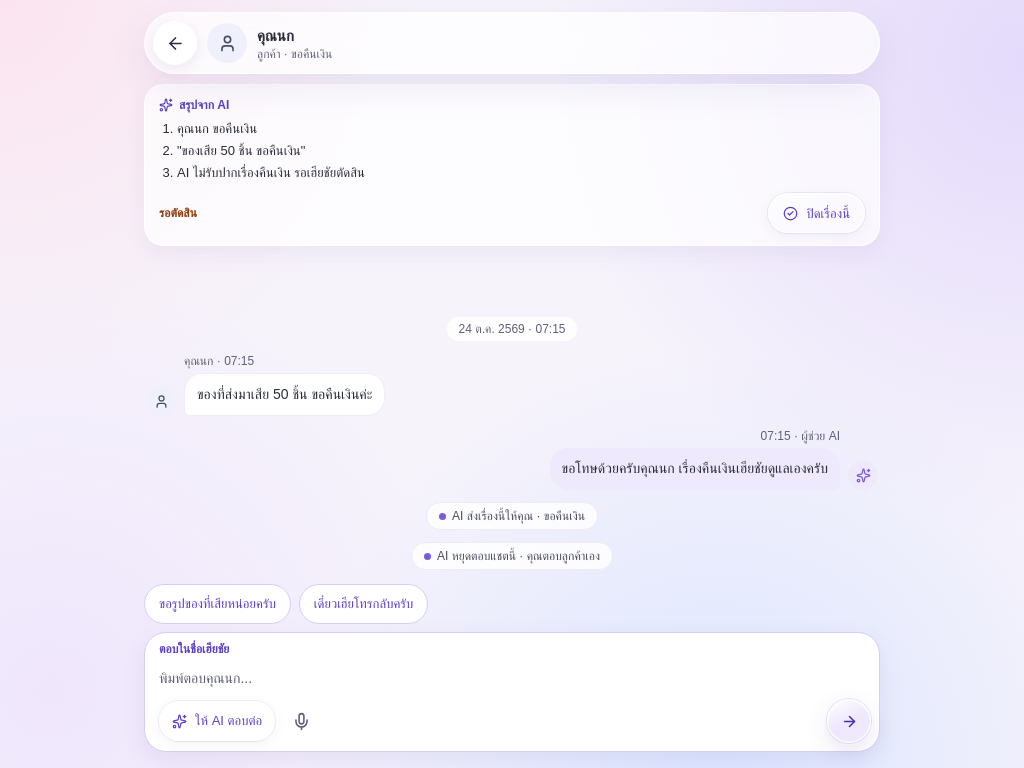
ไมค์ของเถ้าแก่ — พูดแทนพิมพ์ › แปลงเสียงไม่ได้ → บอกให้ลองใหม่หรือพิมพ์แทน
Click the button named "พูดแทนพิมพ์".
click(301, 721)  # box [279,699,323,743]
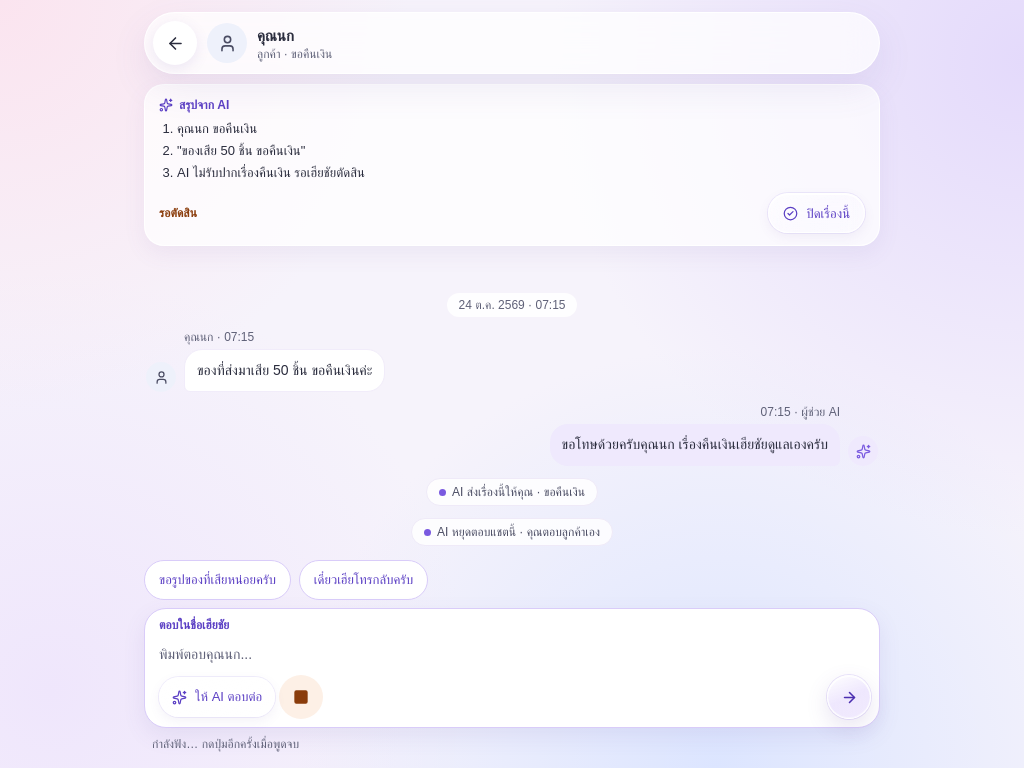
Click the button named "หยุดอัดเสียง".
click(301, 697)  # box [279,675,323,719]
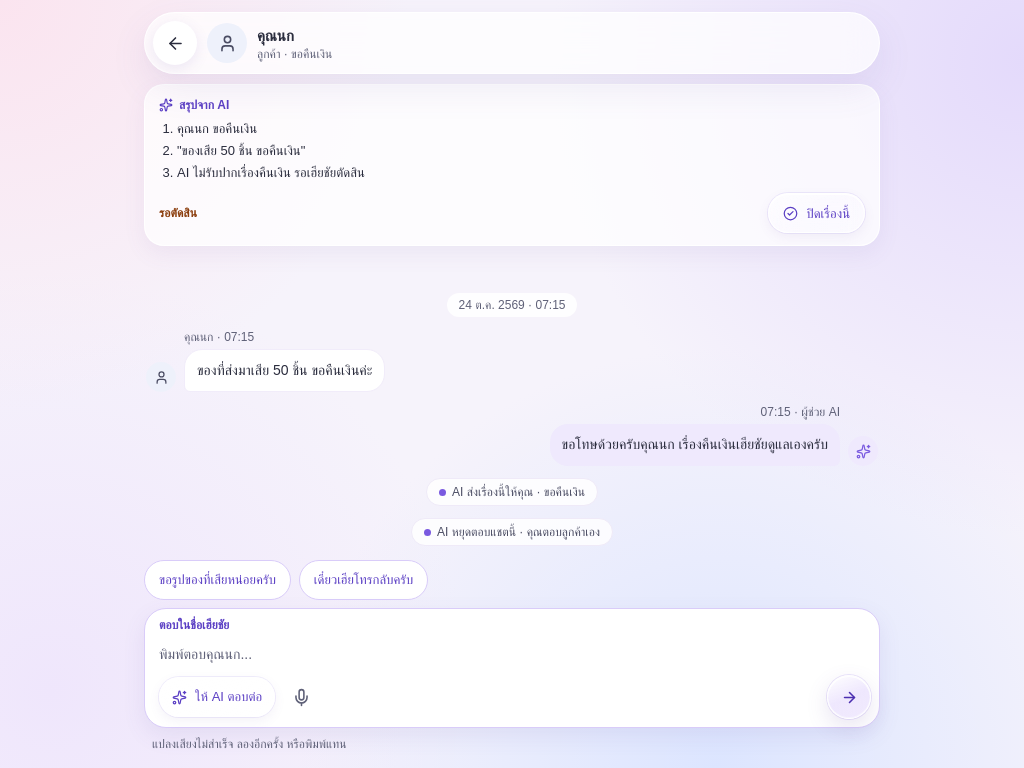
Result: the text "แปลงเสียงไม่สำเร็จ ลองอีกครั้ง หรือพิมพ์แทน" is shown at [152,737,346,751]
